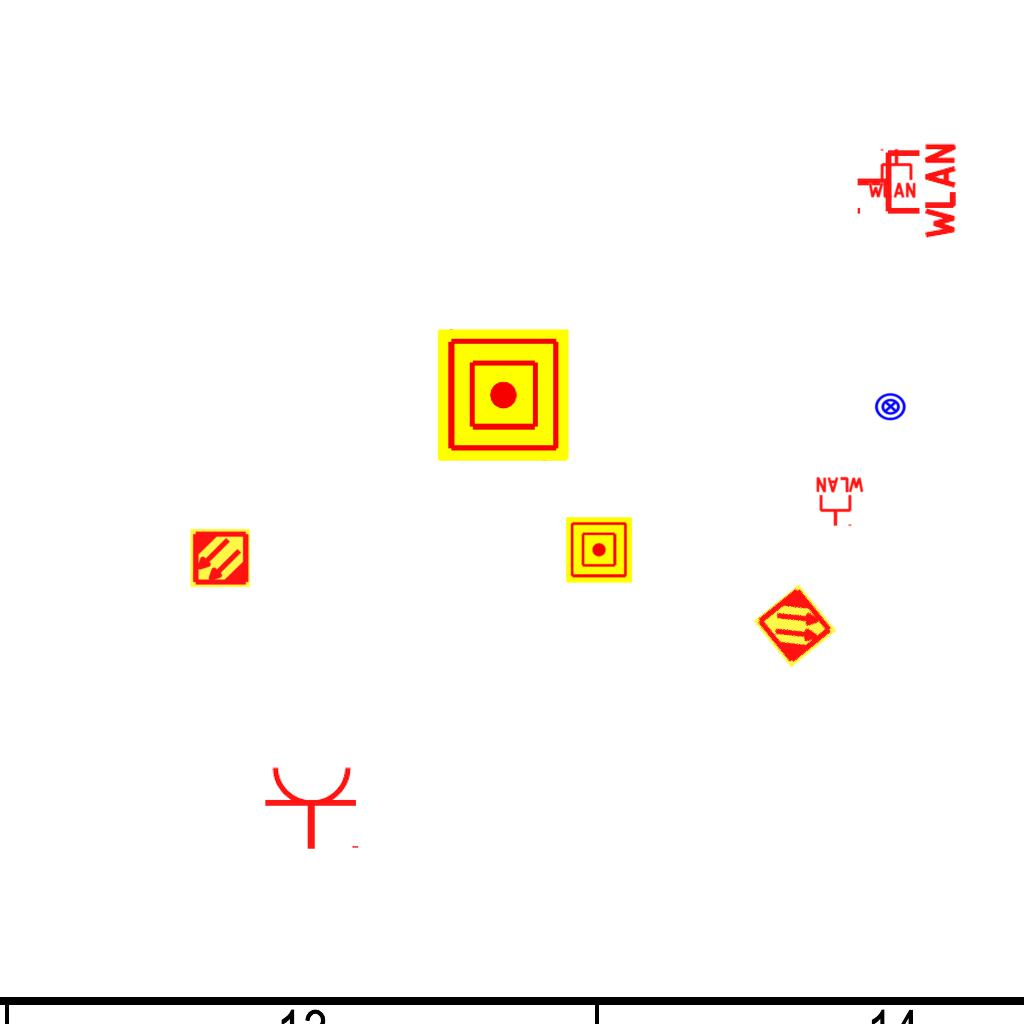ASR_Ansaugrauchmelder: (751, 582, 839, 670), (189, 527, 251, 589)
NAM-Nichtautomatischer_Melder: (437, 329, 569, 461), (566, 517, 632, 583)
Schukosteckdose_einfach: (263, 764, 363, 851)
Taster_beleuchtet: (874, 390, 907, 423)
WLAN: (853, 139, 958, 243), (814, 476, 866, 528), (866, 147, 918, 199)
